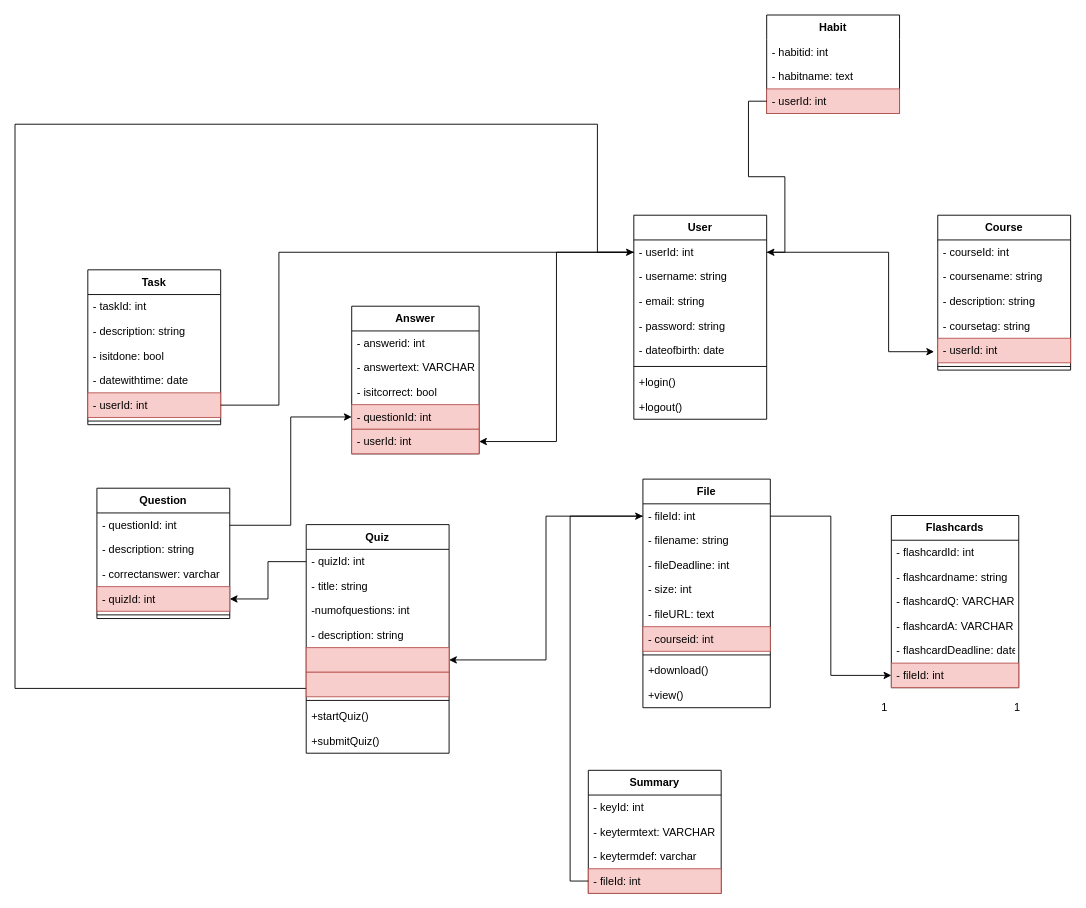
Some shapes in this 1086 by 908 pixel diagram are drawn without their labels. Here are the shapes that lost their labels. From the top down, the centre of each, then its label:
At (377,659): "-fileid: int".
At (377,684): "-userid: int".
